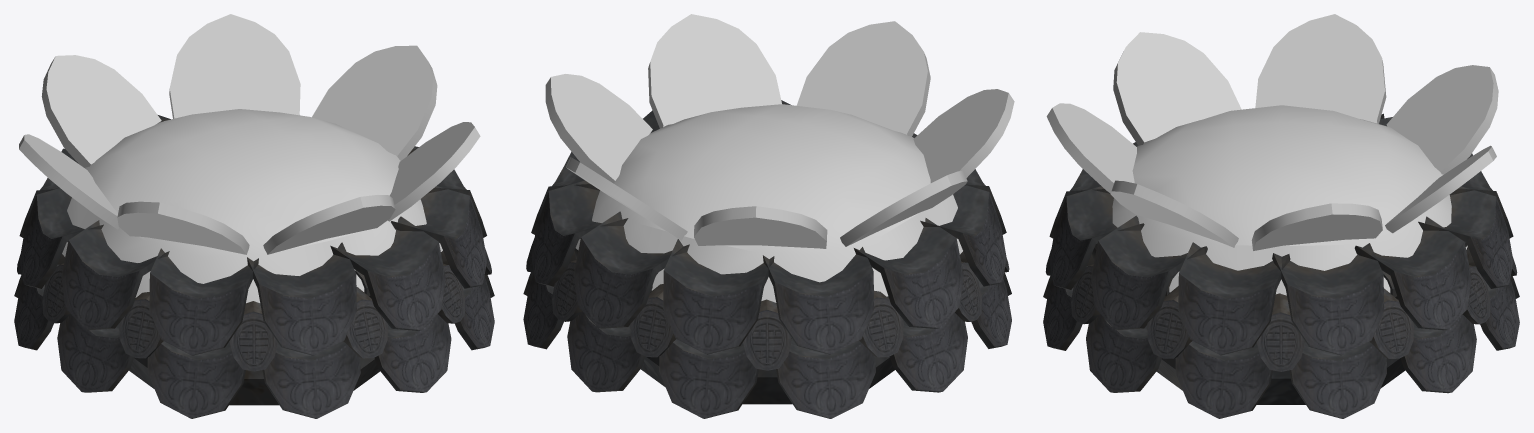
File: SM_RoofOrnament04L.fbx
3 views of the same model, side by side, from view 1: azimuth 30°, elevation 25°; view 2: azimuth 150°, elevation 25°; view 3: azimuth 270°, elevation 25° (orthographic). The views are drawn at different scales.
Visible parts, largest first — view 1: SM_RoofOrnament04L; view 2: SM_RoofOrnament04L; view 3: SM_RoofOrnament04L.
Boxes of the visible parts, left/top/right/bottom form: SM_RoofOrnament04L: left=14, top=14, right=494, bottom=418; SM_RoofOrnament04L: left=523, top=14, right=1014, bottom=418; SM_RoofOrnament04L: left=1043, top=14, right=1519, bottom=418.
Size of the model in its own units: 153 by 153 by 83.2.
